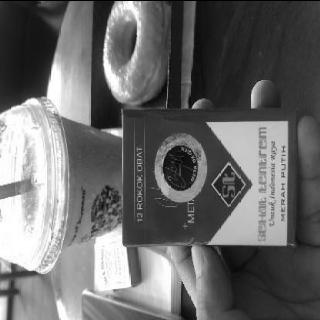objects: (122, 108, 298, 246)
